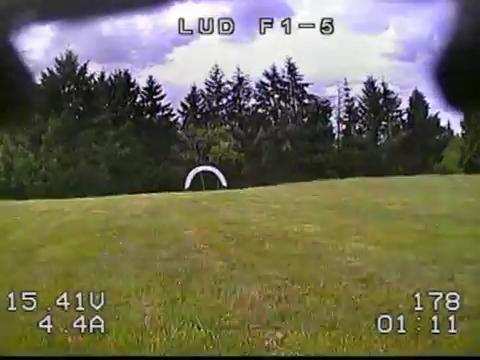gate: (183, 165, 228, 189)
